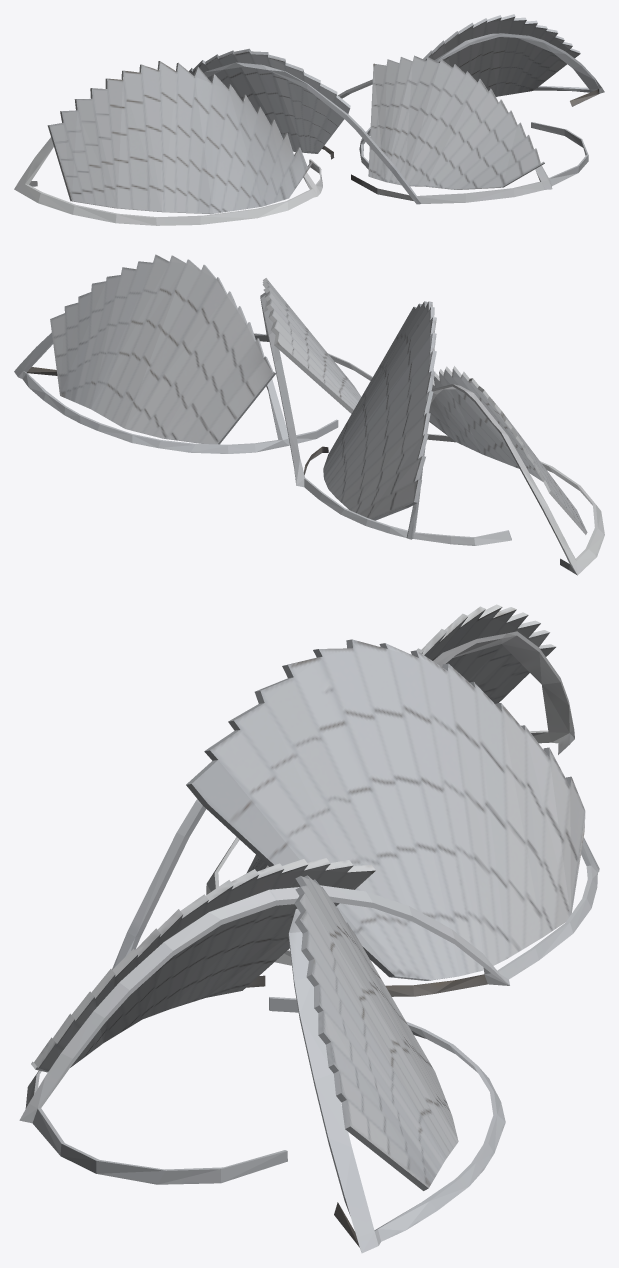
3 renders of one model, top to bottom at view 1: azimuth 30°, elevation 25°; view 2: azimuth 150°, elevation 25°; view 3: azimuth 270°, elevation 25°, orthographic. The views are drawn at different scales.
Parts seen in each view (by area): view 1: 119.001; view 2: 119.001; view 3: 119.001.
Part boxes in pixels (<box>): 119.001: <box>14,14,604,225</box>; 119.001: <box>14,254,604,575</box>; 119.001: <box>19,604,599,1253</box>.
Size of the model in its own units: 103 by 25.42 by 47.91.
1 material, 1 textured.
